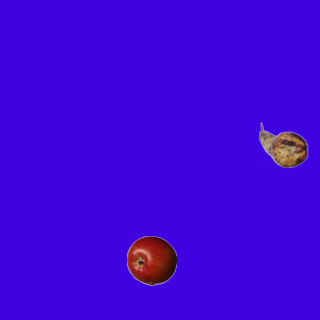Apple Braeburn: (126, 235, 176, 285)
Pear Abate: (258, 120, 308, 170)
